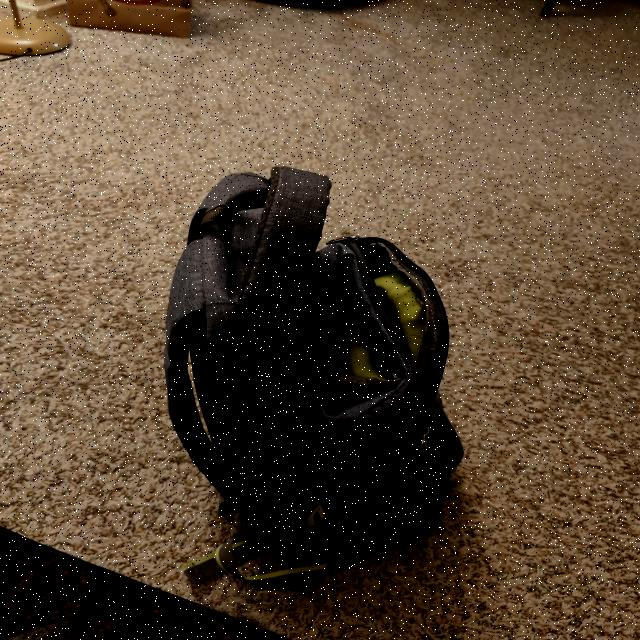bag: (165, 157, 468, 555)
